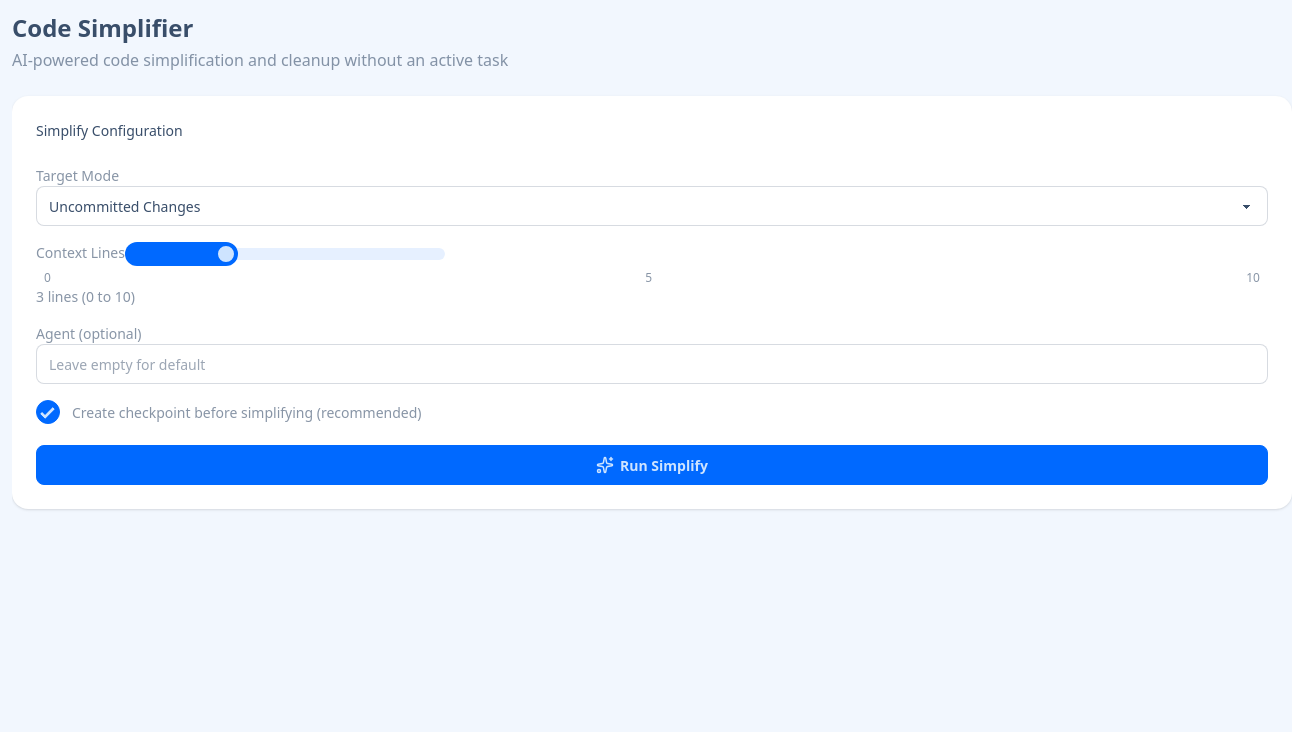
it: Simplify page › shows range input when range mode is selected
The width and height of the screenshot is (1292, 732).
Select "Commit Range" in the dropdown at [652, 206], box [36, 186, 1268, 226]
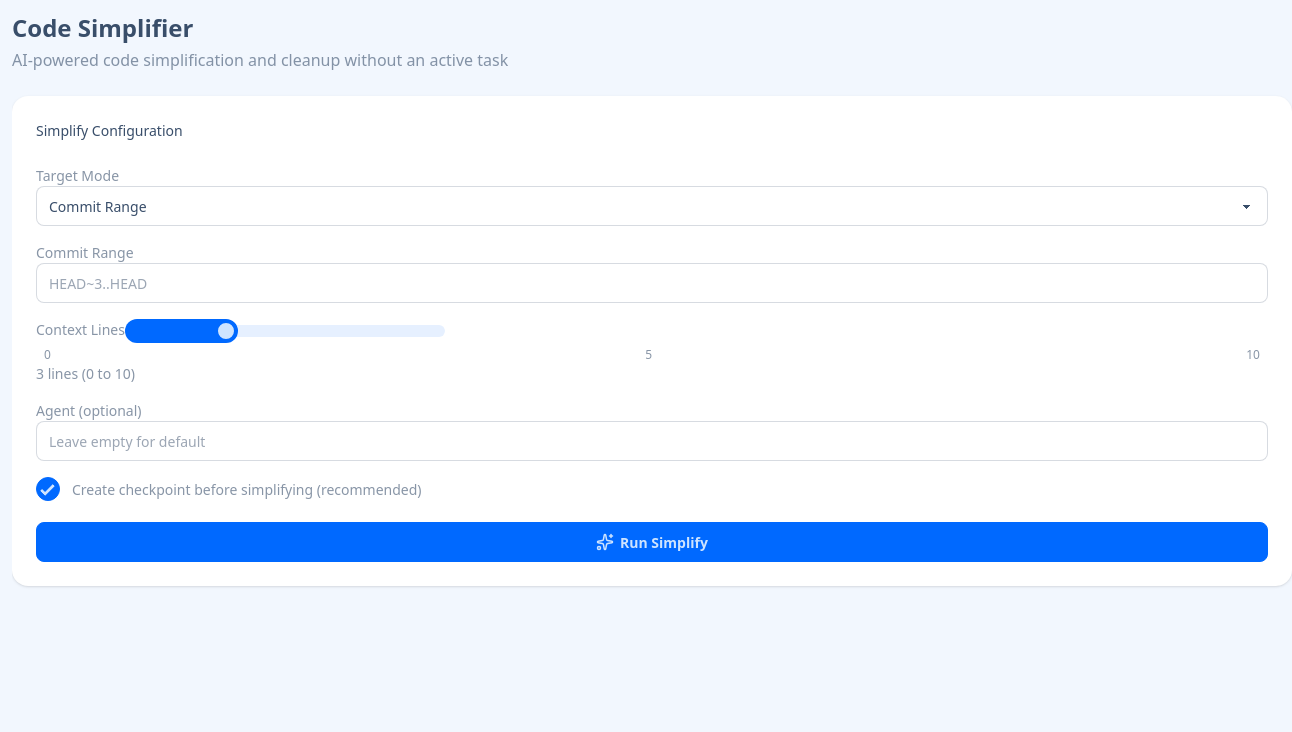
expect the field with placeholder "HEAD~3..HEAD" is shown: met, box [36, 263, 1268, 303]
